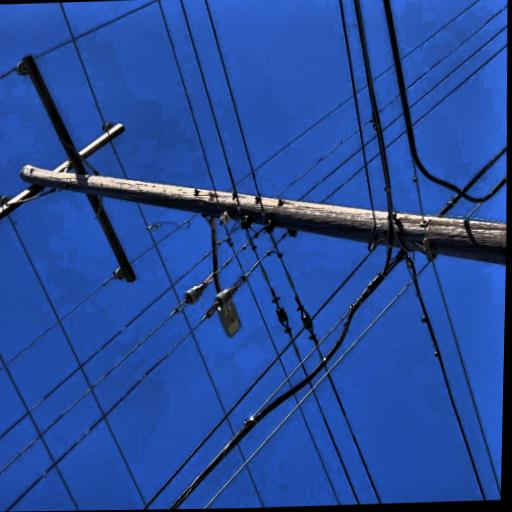insulator: (139, 33, 153, 51), (292, 113, 306, 129), (105, 229, 119, 243), (173, 98, 186, 112), (239, 210, 248, 225)
pole: (35, 106, 232, 511)
street light: (50, 324, 165, 375)
